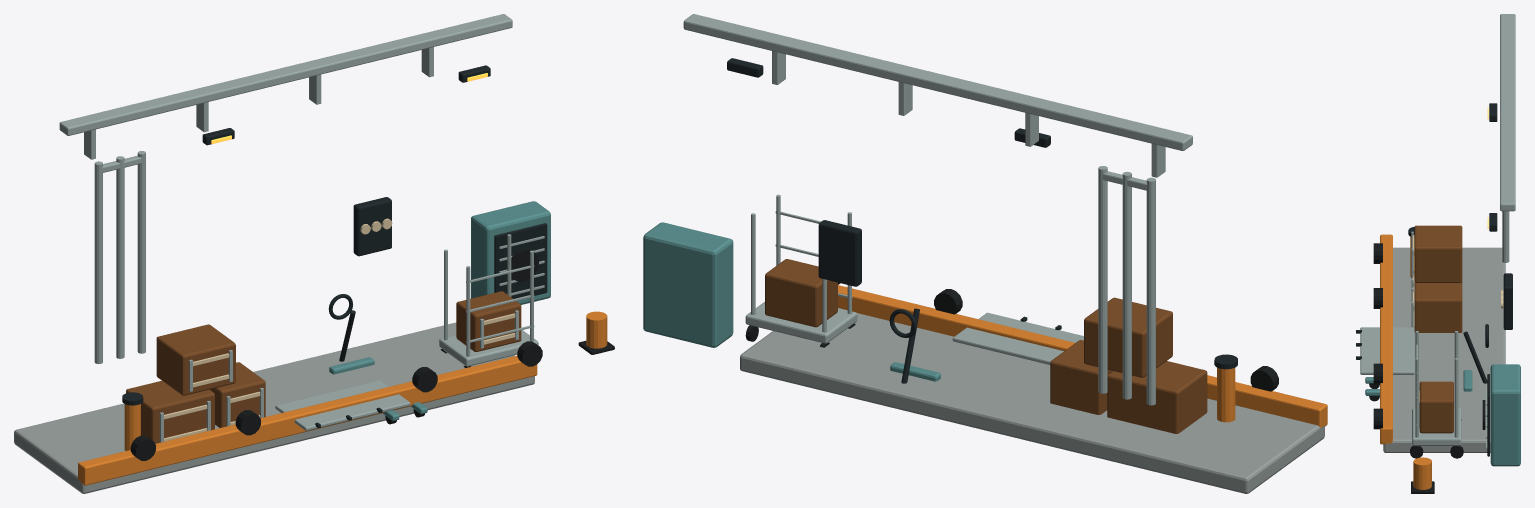
Rendered from serviceI.glb.
The picture shows the model from 3 angles, left to right: view 1: azimuth 30°, elevation 25°; view 2: azimuth 150°, elevation 25°; view 3: azimuth 270°, elevation 25°; orthographic projection. The views are drawn at different scales.
Parts seen in each view (by area): view 1: LaneI_CableTray, LaneI_DockSlab, LaneI_CrateBody, LaneI_DockEdge, LaneI_CompressorFace, LaneI_CompressorBody, LaneI_CageCartWheel, LaneI_CrateSlat; view 2: LaneI_DockSlab, LaneI_CableTray, LaneI_CrateBody, LaneI_CompressorBody, LaneI_DockEdge, LaneI_CompressorFace, LaneI_CageCartWheel; view 3: LaneI_DockSlab, LaneI_CableTray, LaneI_CrateBody, LaneI_CompressorBody, LaneI_DockEdge, LaneI_CompressorFace, LaneI_CageCartWheel, LaneI_CrateSlat.
Boxes of the visible parts, x1=… form: LaneI_CableTray: x1=59, y1=14, x2=544, y2=442; LaneI_DockSlab: x1=14, y1=322, x2=534, y2=493; LaneI_CrateBody: x1=126, y1=291, x2=521, y2=443; LaneI_DockEdge: x1=78, y1=311, x2=607, y2=485; LaneI_CompressorFace: x1=122, y1=65, x2=547, y2=428; LaneI_CompressorBody: x1=329, y1=201, x2=550, y2=420; LaneI_CageCartWheel: x1=130, y1=249, x2=614, y2=460; LaneI_CrateSlat: x1=164, y1=218, x2=515, y2=441; LaneI_DockSlab: x1=740, y1=313, x2=1324, y2=493; LaneI_CableTray: x1=683, y1=14, x2=1192, y2=405; LaneI_CrateBody: x1=765, y1=259, x2=1207, y2=433; LaneI_CompressorBody: x1=643, y1=222, x2=940, y2=381; LaneI_DockEdge: x1=838, y1=285, x2=1327, y2=427; LaneI_CompressorFace: x1=727, y1=58, x2=1237, y2=383; LaneI_CageCartWheel: x1=745, y1=282, x2=1278, y2=391; LaneI_DockSlab: x1=1383, y1=247, x2=1505, y2=452; LaneI_CableTray: x1=1360, y1=14, x2=1515, y2=449; LaneI_CrateBody: x1=1414, y1=225, x2=1462, y2=433; LaneI_CompressorBody: x1=1365, y1=364, x2=1520, y2=466; LaneI_DockEdge: x1=1380, y1=234, x2=1431, y2=489; LaneI_CompressorFace: x1=1356, y1=103, x2=1512, y2=456; LaneI_CageCartWheel: x1=1369, y1=243, x2=1485, y2=493; LaneI_CrateSlat: x1=1412, y1=235, x2=1503, y2=401.
Size of the model in its own units: 10.71 by 5.71 by 3.17.
